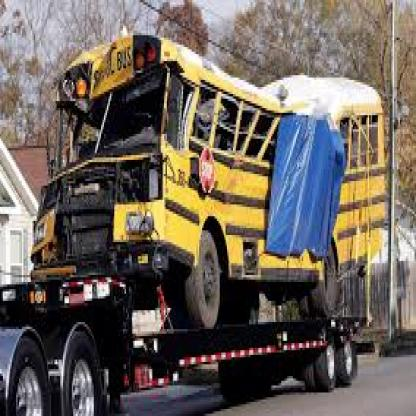accident: (31, 31, 399, 338)
